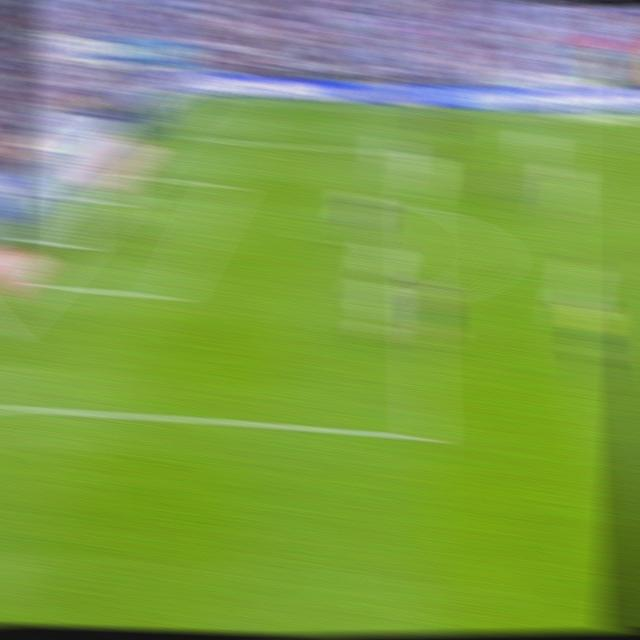bigarea_bottom_inner: (155, 281, 183, 307)
bigarea_top_outter: (162, 128, 188, 141)
corner: (194, 93, 221, 105)
smallarea_top_outter: (126, 166, 152, 185)
